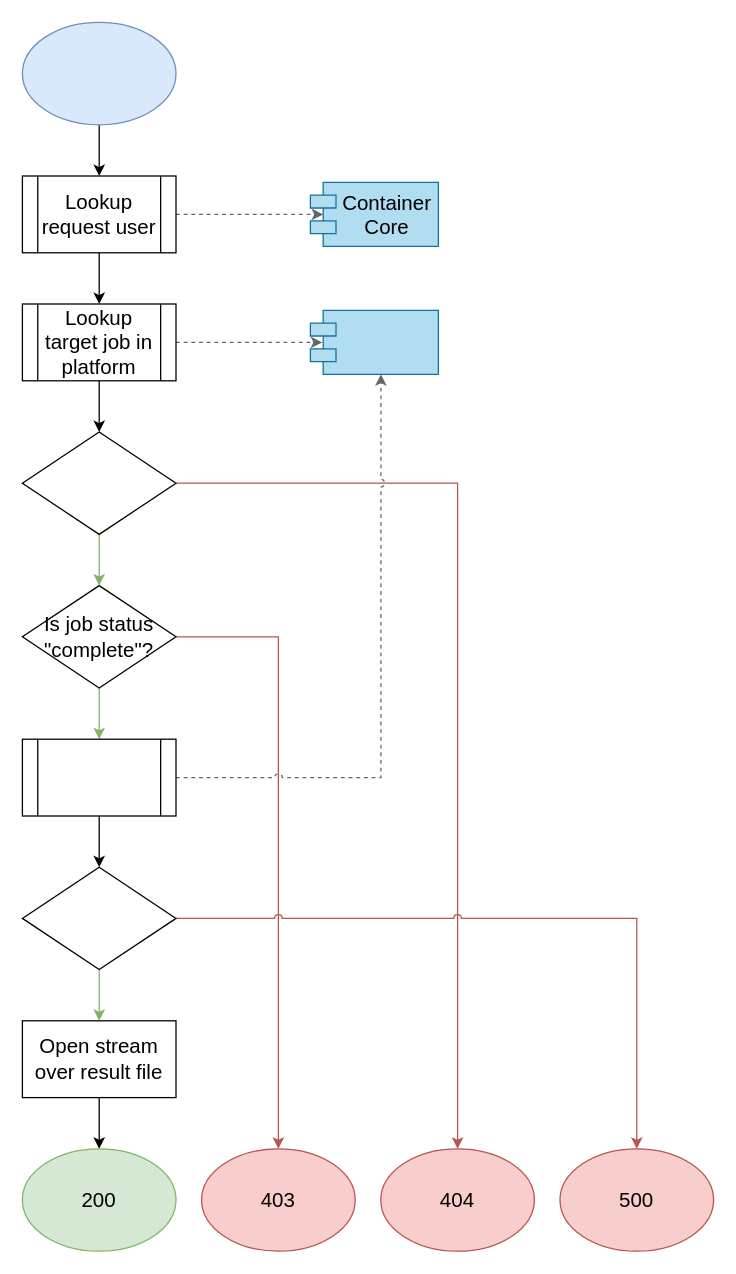
The diagram is 736 pixels wide and 1274 high, and some of its shapes have lost their labels. Each missing label, with the box of its shape:
Async Platform: (309, 309, 438, 374)
Does job exist?: (21, 431, 176, 534)
Does result file exist?: (21, 866, 176, 970)
Get job workspace files: (21, 738, 176, 816)
Start: (21, 21, 176, 125)
